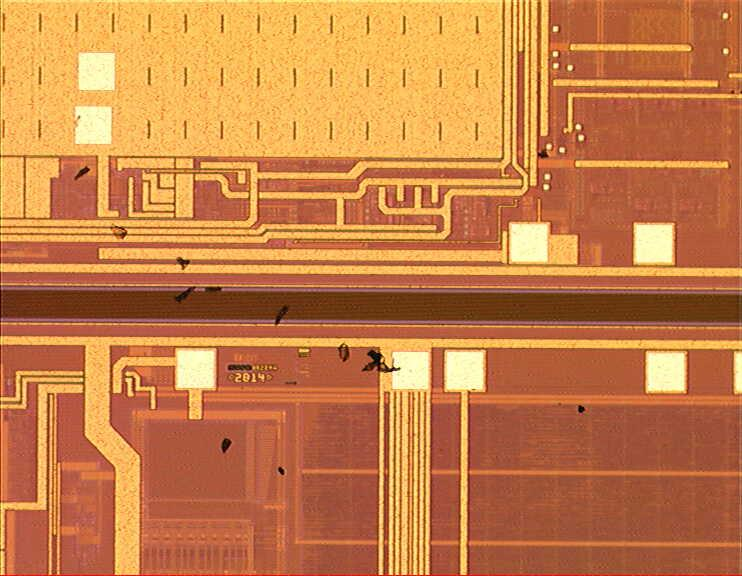PO CONTAMINATION: (67, 142, 593, 481)
